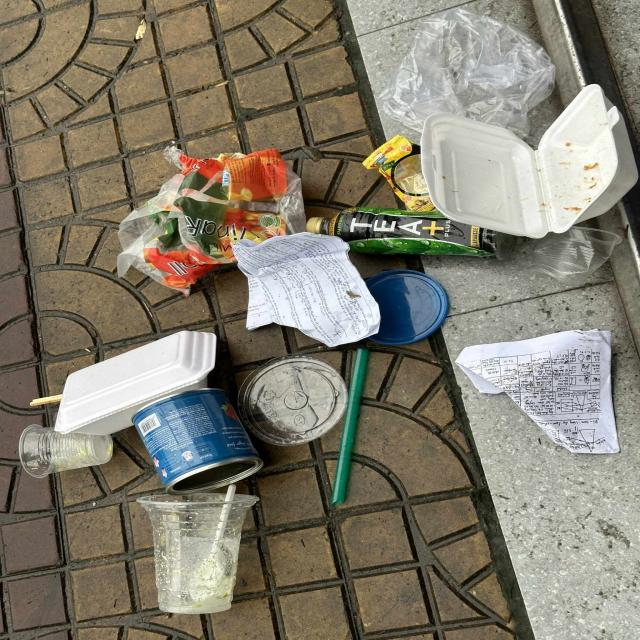bag: (115, 143, 309, 300), (371, 6, 559, 142)
bottle: (305, 206, 504, 261)
can: (129, 386, 266, 497)
drinking straw: (328, 348, 371, 509)
foam box: (419, 82, 640, 241), (52, 329, 220, 437)
lid: (234, 352, 351, 448), (362, 268, 450, 348)
packet: (360, 132, 437, 213)
paper: (452, 327, 622, 457), (227, 230, 383, 350)
plastic glass: (134, 492, 261, 616), (528, 224, 624, 288), (17, 423, 115, 480)
